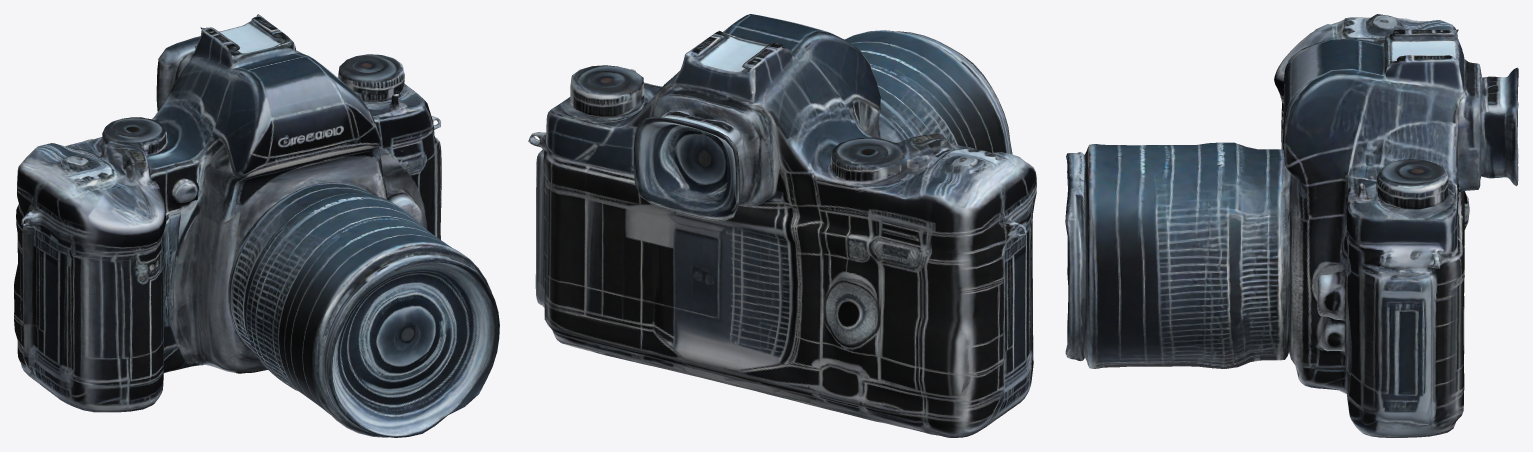
The model's file is 3dCamera.glb.
The picture shows the model from 3 angles, left to right: view 1: azimuth 30°, elevation 25°; view 2: azimuth 150°, elevation 25°; view 3: azimuth 270°, elevation 25°; orthographic projection. The views are drawn at different scales.
Size of the model in its own units: 1.97 by 1.3 by 1.72.
1 material, 1 textured.
